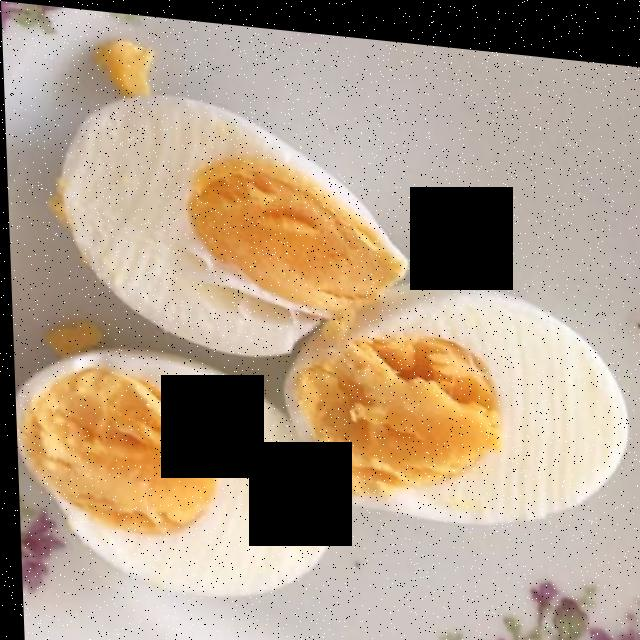egg: (15, 66, 634, 601), (28, 85, 619, 585), (21, 65, 588, 580)
